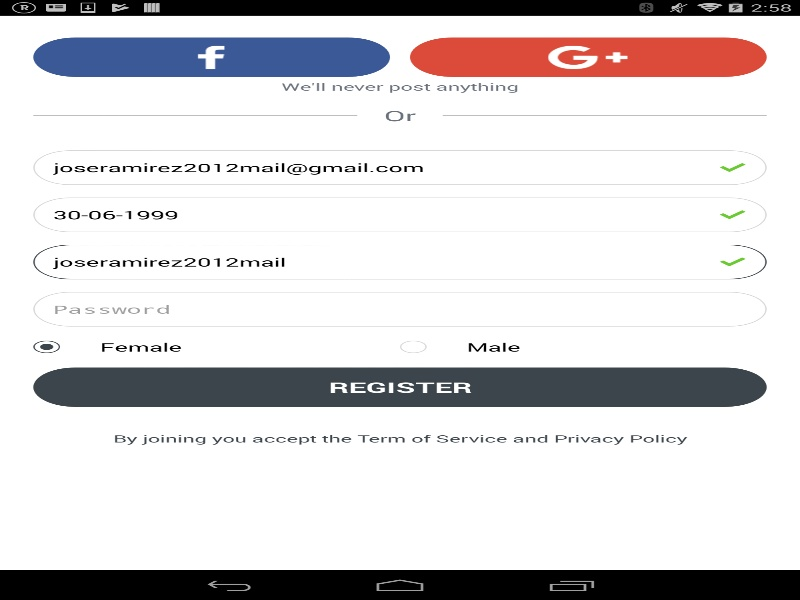Button: (33, 367, 766, 406)
Input: (33, 150, 766, 185), (33, 197, 766, 232), (33, 244, 766, 279), (33, 291, 766, 326)
